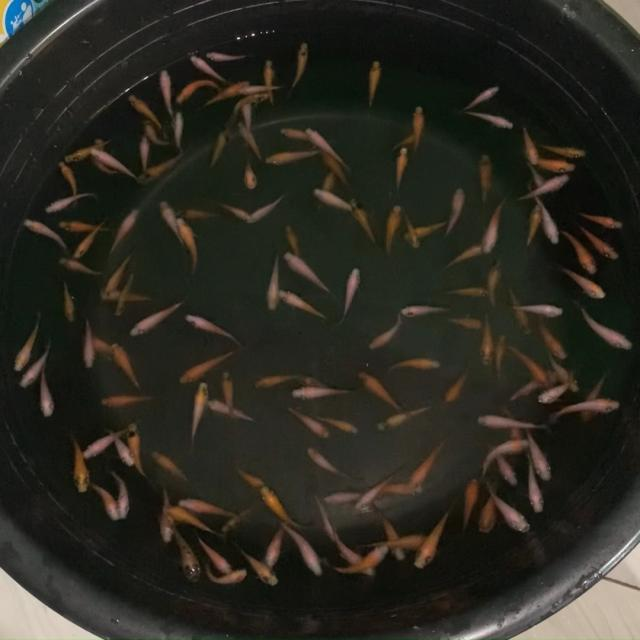nila: (281, 247, 336, 300), (413, 502, 455, 571), (579, 304, 637, 352), (280, 517, 323, 578), (257, 482, 314, 526), (484, 486, 534, 534), (176, 348, 235, 388), (126, 299, 186, 338), (166, 530, 206, 586), (18, 334, 56, 391), (406, 438, 448, 489), (528, 182, 562, 245), (353, 468, 402, 511), (480, 438, 532, 478), (560, 226, 601, 276), (183, 312, 245, 345), (197, 78, 253, 114), (356, 370, 406, 410), (511, 344, 554, 388), (304, 126, 349, 168), (376, 507, 410, 562), (578, 219, 622, 261), (136, 152, 187, 188), (15, 311, 44, 374), (106, 206, 144, 254), (554, 265, 606, 300), (370, 404, 432, 433), (162, 504, 218, 536), (514, 172, 572, 202), (482, 194, 510, 256), (111, 341, 145, 392), (332, 532, 372, 575), (332, 546, 389, 576), (192, 536, 236, 574), (439, 242, 486, 277), (81, 425, 129, 459), (554, 398, 628, 420), (172, 218, 200, 276), (238, 550, 278, 590), (150, 448, 192, 486), (506, 284, 536, 337), (364, 532, 436, 554), (278, 288, 327, 320), (126, 421, 152, 481), (90, 148, 140, 179), (156, 198, 187, 248), (74, 218, 109, 262), (22, 217, 66, 252), (306, 446, 352, 479), (130, 90, 166, 132), (452, 108, 515, 132), (338, 266, 364, 323), (365, 313, 403, 352), (189, 380, 212, 444), (172, 78, 224, 106), (208, 398, 260, 426), (440, 186, 468, 238), (104, 250, 134, 298), (287, 406, 330, 439), (579, 374, 607, 424), (105, 422, 136, 467), (512, 370, 557, 401), (44, 188, 96, 214), (263, 520, 289, 572), (528, 431, 556, 479), (176, 496, 237, 518), (472, 414, 555, 430), (205, 124, 235, 168), (248, 193, 292, 223), (263, 146, 318, 170), (187, 55, 234, 83), (65, 138, 112, 166), (108, 468, 132, 522), (489, 442, 518, 486), (322, 144, 350, 189), (350, 199, 378, 244), (463, 82, 503, 113), (91, 482, 121, 523), (311, 411, 362, 435), (550, 356, 582, 394), (289, 40, 311, 95), (70, 436, 90, 496), (526, 454, 546, 514), (537, 376, 577, 406), (404, 216, 452, 241), (312, 188, 356, 215), (314, 493, 338, 542), (266, 249, 284, 313), (112, 272, 138, 316), (157, 484, 175, 546), (286, 387, 360, 402), (91, 136, 118, 177), (528, 154, 578, 176), (233, 90, 272, 118), (475, 150, 495, 204), (577, 208, 626, 230), (444, 368, 472, 406), (502, 408, 526, 452), (220, 372, 241, 422), (221, 504, 256, 534), (460, 476, 478, 534), (383, 202, 402, 256), (366, 481, 426, 498), (236, 121, 262, 160), (518, 122, 542, 164), (86, 334, 126, 359), (492, 332, 512, 382), (540, 140, 590, 160), (37, 366, 56, 418), (478, 487, 497, 539), (382, 357, 443, 373), (262, 55, 281, 106), (142, 117, 173, 148), (540, 320, 568, 354), (58, 160, 80, 203), (98, 294, 156, 310), (250, 372, 292, 394), (58, 256, 104, 276), (524, 204, 544, 250), (98, 395, 156, 410), (393, 146, 410, 197), (57, 218, 111, 234), (200, 568, 248, 586), (487, 255, 502, 312), (402, 304, 455, 320), (158, 70, 176, 117), (316, 168, 337, 208), (510, 304, 570, 318), (366, 58, 382, 110), (526, 160, 548, 197), (60, 280, 78, 324), (410, 105, 426, 154), (172, 110, 187, 162), (230, 466, 265, 488), (238, 81, 283, 98), (324, 490, 368, 507), (82, 320, 96, 372), (296, 375, 341, 391), (442, 285, 495, 298), (403, 212, 421, 250), (480, 313, 492, 369), (389, 130, 417, 154), (220, 203, 253, 223), (282, 223, 303, 254), (203, 49, 253, 62), (138, 131, 153, 174), (240, 160, 260, 192), (240, 99, 254, 144), (445, 314, 483, 330), (174, 207, 220, 220), (278, 125, 312, 140)
